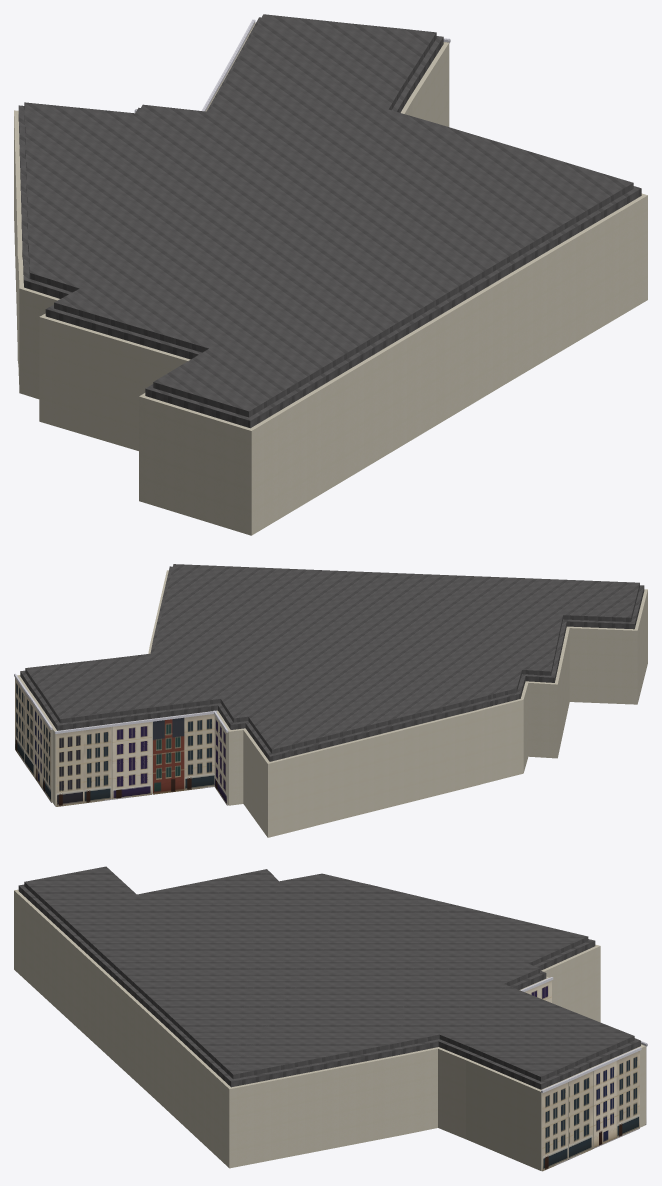
3 views of the same model, one above another, from view 1: azimuth 30°, elevation 25°; view 2: azimuth 150°, elevation 25°; view 3: azimuth 270°, elevation 25° (orthographic). The views are drawn at different scales.
Visible parts, largest first — view 1: bldg_779620484_roof_b, bldg_779620484, bldg_779620484_roof_a; view 2: bldg_779620484_roof_b, bldg_779620484, bldg_779620484_roof_a, bldg_779620484_facade1, bldg_779620484_facade3, bldg_779620484_facade2, bldg_779620484_facade4, bldg_779620484_facade0, bldg_779620484_facade5, bldg_779620484_facade6; view 3: bldg_779620484_roof_b, bldg_779620484, bldg_779620484_roof_a, bldg_779620484_facade4, bldg_779620484_facade6, bldg_779620484_facade5, bldg_779620484_facade0.
Boxes of the visible parts, x1,y1,x2,y2 form: bldg_779620484_roof_b: (24,14,633,417); bldg_779620484: (14,22,647,535); bldg_779620484_roof_a: (18,17,641,428); bldg_779620484_roof_b: (25,564,639,753); bldg_779620484: (17,570,647,837); bldg_779620484_roof_a: (20,566,644,761); bldg_779620484_facade1: (152,710,216,794); bldg_779620484_facade3: (54,724,111,806); bldg_779620484_facade2: (111,719,152,799); bldg_779620484_facade4: (33,701,52,802); bldg_779620484_facade0: (213,710,228,805); bldg_779620484_facade5: (23,688,34,776); bldg_779620484_facade6: (14,673,25,763); bldg_779620484_roof_b: (24,866,634,1081); bldg_779620484: (14,889,645,1170); bldg_779620484_roof_a: (18,871,640,1089); bldg_779620484_facade4: (593,1047,641,1148); bldg_779620484_facade6: (541,1079,569,1171); bldg_779620484_facade5: (568,1068,593,1159); bldg_779620484_facade0: (520,977,553,1002).
Size of the model in its own units: 83.57 by 15.8 by 102.
Materials: 5 (3 with a texture image).
